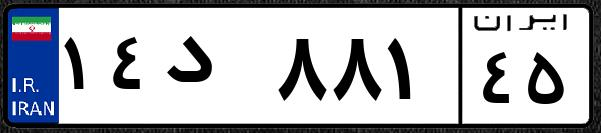1: (385, 28, 445, 110), (57, 26, 110, 100)
4: (475, 38, 525, 113), (110, 28, 158, 98)
5: (525, 38, 570, 115)
8: (270, 28, 330, 110), (330, 28, 385, 110)
د: (158, 20, 270, 120)
